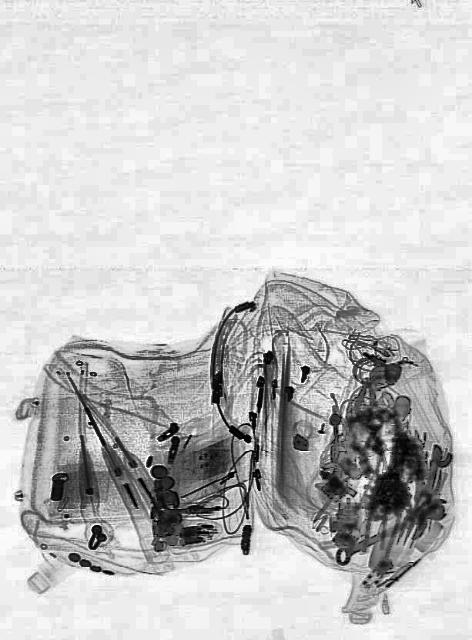Wrench: (332, 494, 450, 570)
